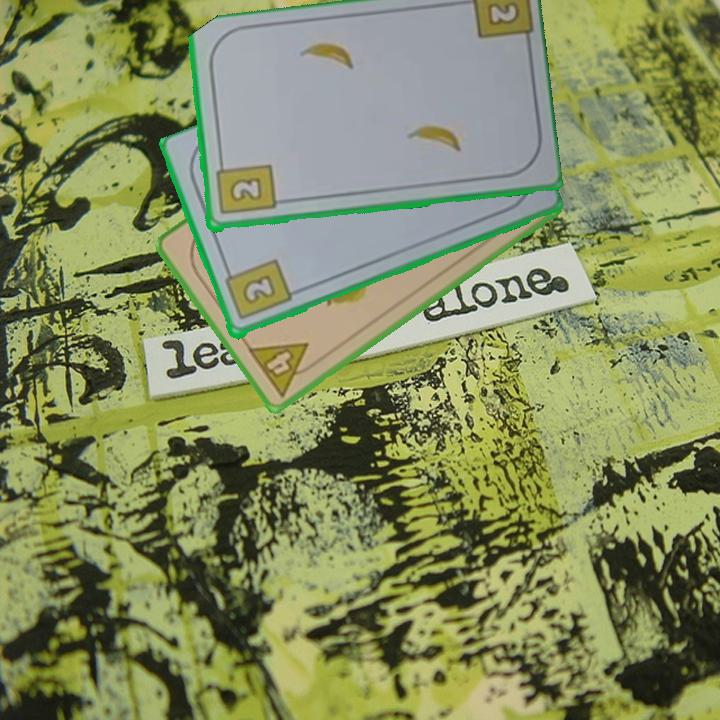2b: (221, 256, 294, 323), (212, 157, 278, 218), (487, 1, 519, 26)
4p: (244, 339, 323, 400)
